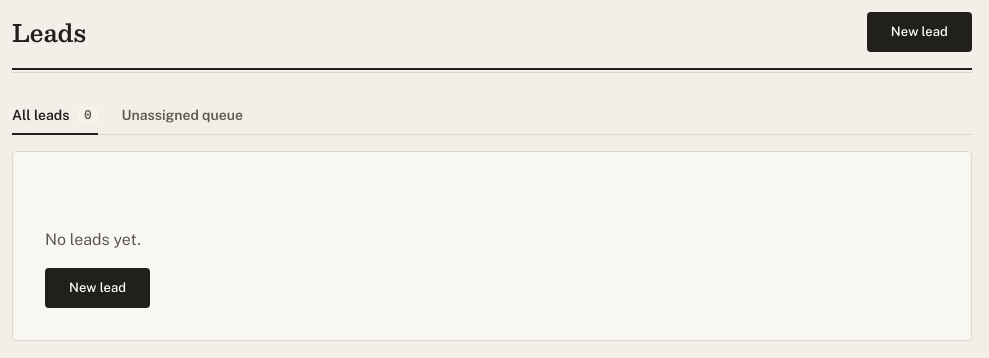
it: LeadsListPage empty + error states › shows the calm queue-clear note on the empty queue tab
Expected: the message "No leads yet. New lead" is shown, [12, 151, 972, 341]
Click the tab with id "leads-list-tab-queue".
click(182, 116)  # box [122, 97, 243, 135]
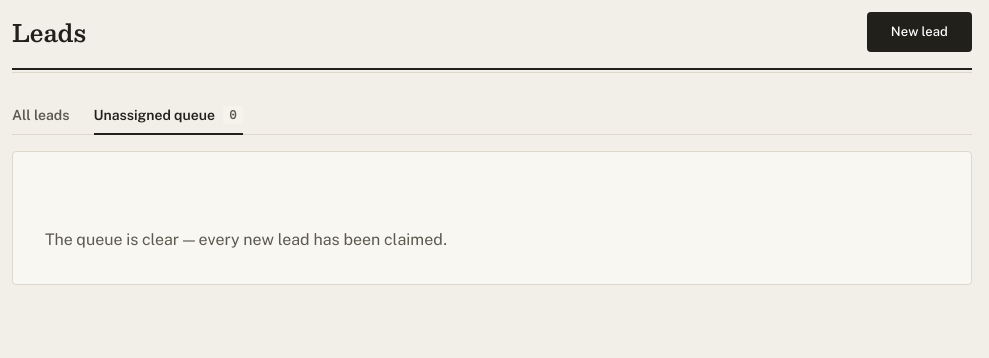
Expected: the message "The queue is clear — every new lead has been claimed." is shown, [12, 151, 972, 285]
Expected: the text with id "leads-list-empty-queue-message" shows "The queue is clear", [45, 230, 448, 249]
Expected: the link with id "leads-list-empty-new-lead-link" is gone
